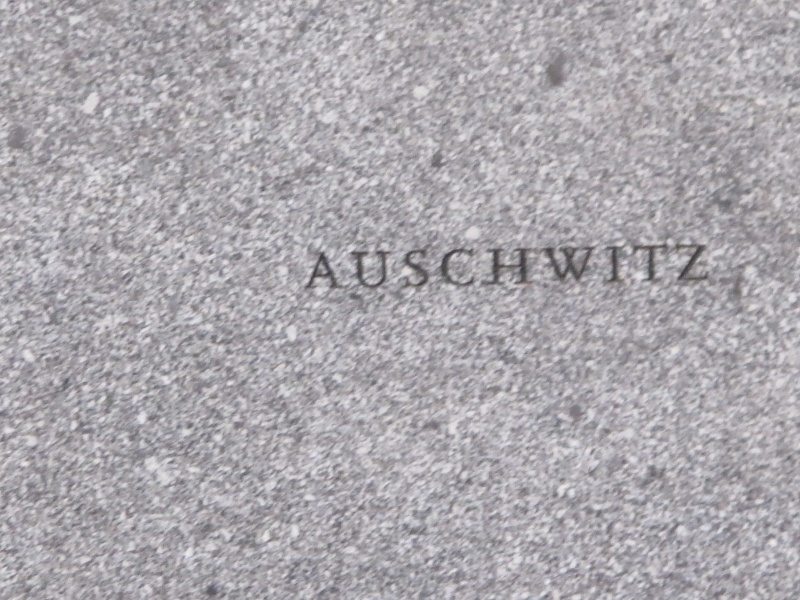text: (337, 243, 352, 291), (353, 243, 368, 291), (369, 243, 384, 291), (385, 243, 400, 291), (401, 243, 416, 291), (417, 243, 432, 291), (433, 243, 448, 291), (449, 243, 464, 291), (465, 243, 480, 291), (481, 243, 496, 291), (497, 243, 512, 291), (513, 243, 528, 291), (529, 243, 544, 291), (545, 243, 560, 291), (561, 243, 576, 291), (577, 243, 592, 291), (593, 243, 608, 291), (609, 243, 624, 291), (625, 243, 640, 291), (641, 243, 656, 291), (657, 243, 672, 291), (673, 243, 688, 291), (689, 243, 704, 291), (322, 243, 336, 291), (705, 243, 710, 291)
